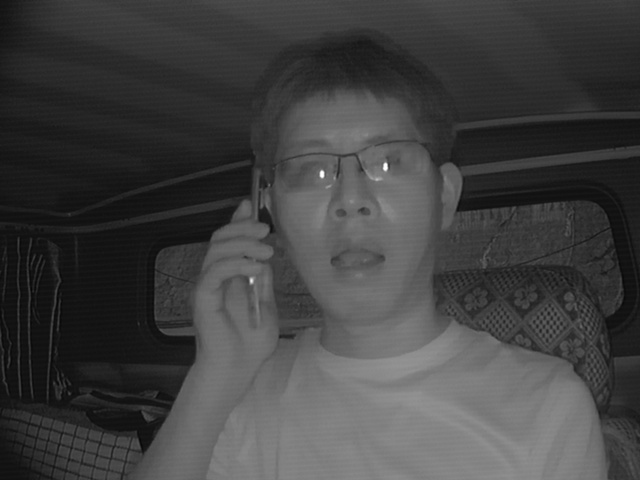hand: (193, 202, 284, 369)
